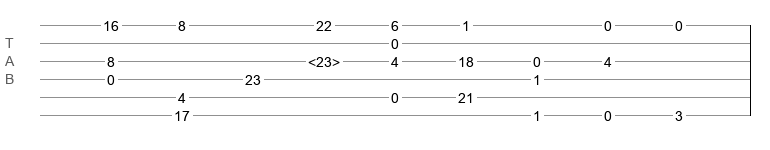0: (107, 72, 115, 82), (391, 90, 399, 100), (391, 36, 399, 46), (533, 54, 541, 64), (604, 18, 612, 28), (604, 108, 612, 118), (675, 18, 683, 28)
1: (462, 18, 470, 28), (533, 108, 541, 118), (533, 72, 541, 82)
16: (103, 18, 119, 28)
17: (174, 108, 190, 118)
18: (458, 54, 474, 64)
21: (458, 90, 474, 100)
22: (316, 18, 332, 28)
23: (245, 72, 261, 82)
3: (675, 108, 683, 118)
4: (178, 90, 186, 100), (391, 54, 399, 64), (604, 54, 612, 64)
6: (391, 18, 399, 28)
8: (107, 54, 115, 64), (178, 18, 186, 28)
harmonic: (308, 54, 340, 64)
